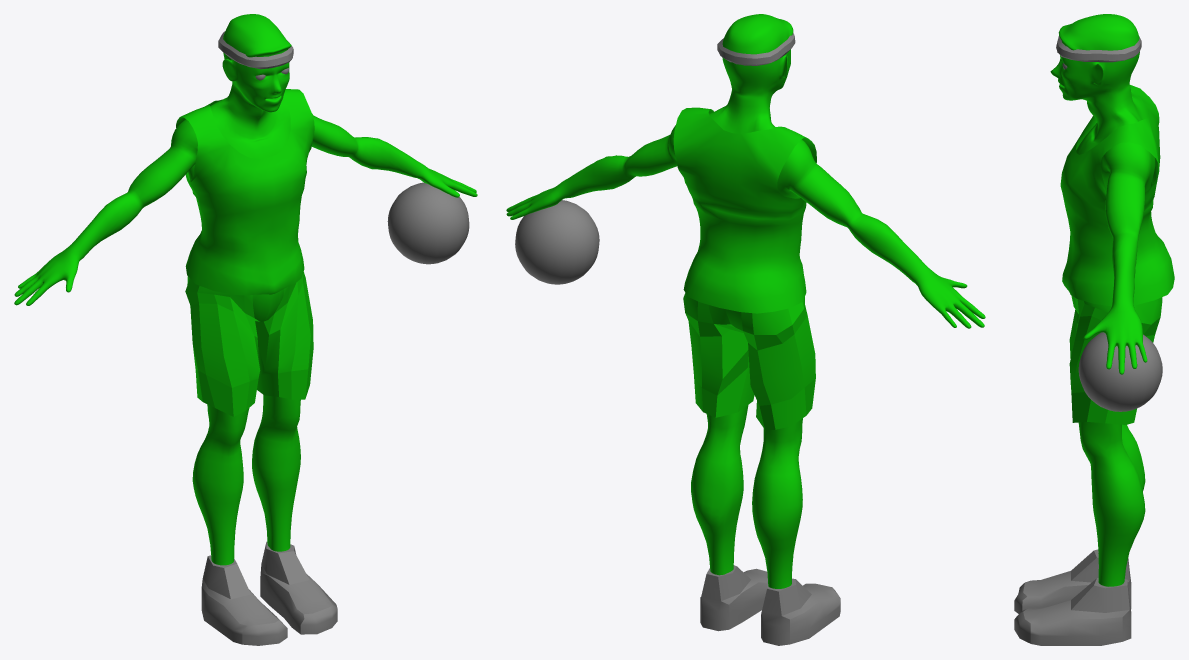
File: BasketballPlayerEntire2.obj
3 renders of one model, left to right at view 1: azimuth 30°, elevation 25°; view 2: azimuth 150°, elevation 25°; view 3: azimuth 270°, elevation 25°, orthographic. The views are drawn at different scales.
Parts seen in each view (by area): view 1: GenericMesh1, GenericMesh3, GenericMesh2, pSphere3, pCube2 pCube1, pCube3, pPipe1; view 2: GenericMesh1, GenericMesh3, GenericMesh2, pSphere3, pCube2 pCube1, pCube3, pPipe1; view 3: GenericMesh1, GenericMesh3, pCube3, pSphere3, GenericMesh2, pCube2 pCube1, pPipe1.
Boxes of the visible parts, box(x1,y1,x2,y2) form: GenericMesh1: box(14, 14, 477, 565); GenericMesh3: box(176, 89, 314, 295); GenericMesh2: box(185, 272, 313, 416); pSphere3: box(387, 182, 469, 264); pCube2 pCube1: box(201, 555, 287, 645); pCube3: box(260, 541, 337, 634); pPipe1: box(218, 31, 293, 69); GenericMesh1: box(506, 14, 985, 588); GenericMesh3: box(673, 107, 816, 313); GenericMesh2: box(683, 293, 815, 429); pSphere3: box(515, 200, 599, 284); pCube2 pCube1: box(761, 578, 840, 645); pCube3: box(700, 565, 767, 631); pPipe1: box(717, 33, 795, 65); GenericMesh1: box(1050, 14, 1155, 586); GenericMesh3: box(1060, 85, 1174, 306); pCube3: box(1014, 578, 1131, 645); pSphere3: box(1078, 332, 1162, 411); GenericMesh2: box(1069, 295, 1162, 424); pCube2 pCube1: box(1014, 549, 1131, 613); pPipe1: box(1056, 36, 1141, 62).
Size of the model in its own units: 29.33 by 35.68 by 8.62.
